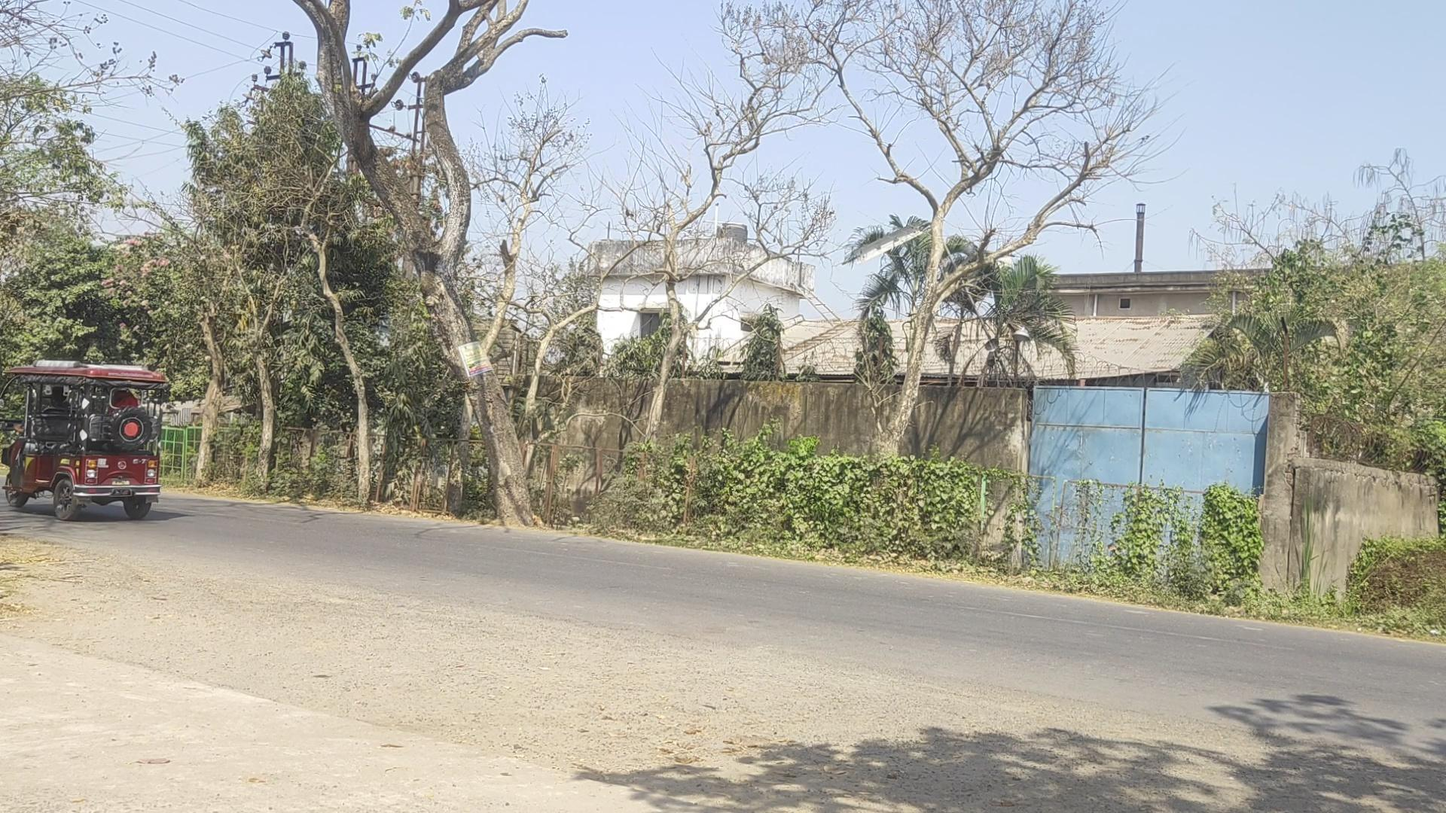Auto: (1, 360, 171, 522)
